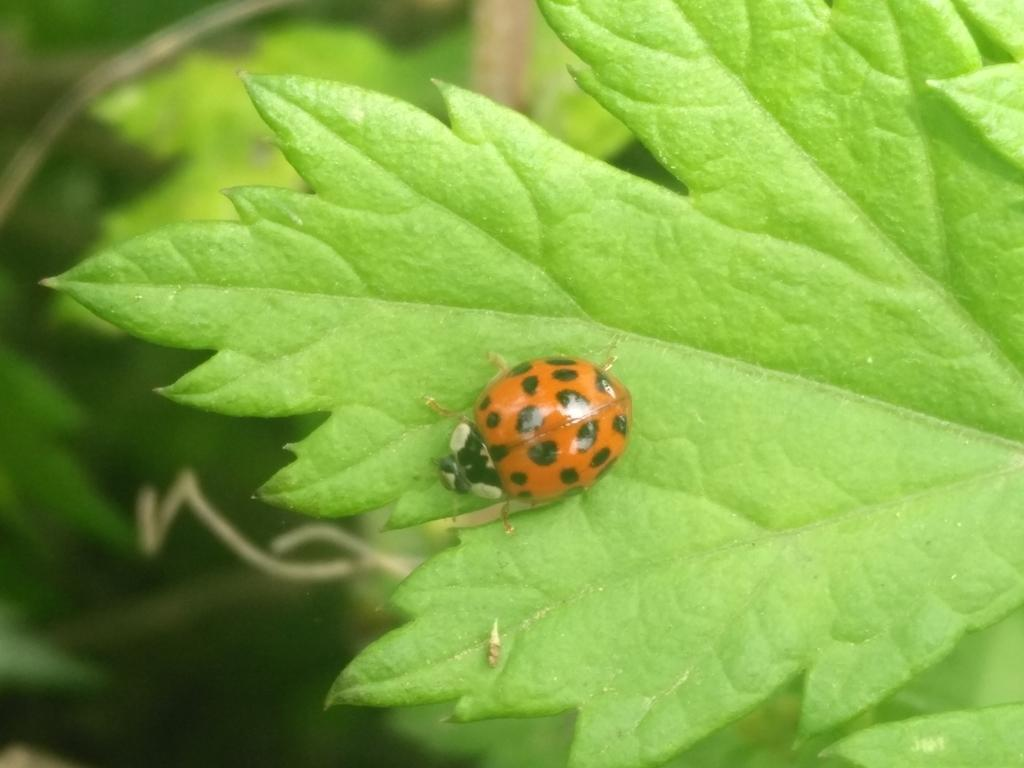ladybug: (427, 347, 643, 537)
